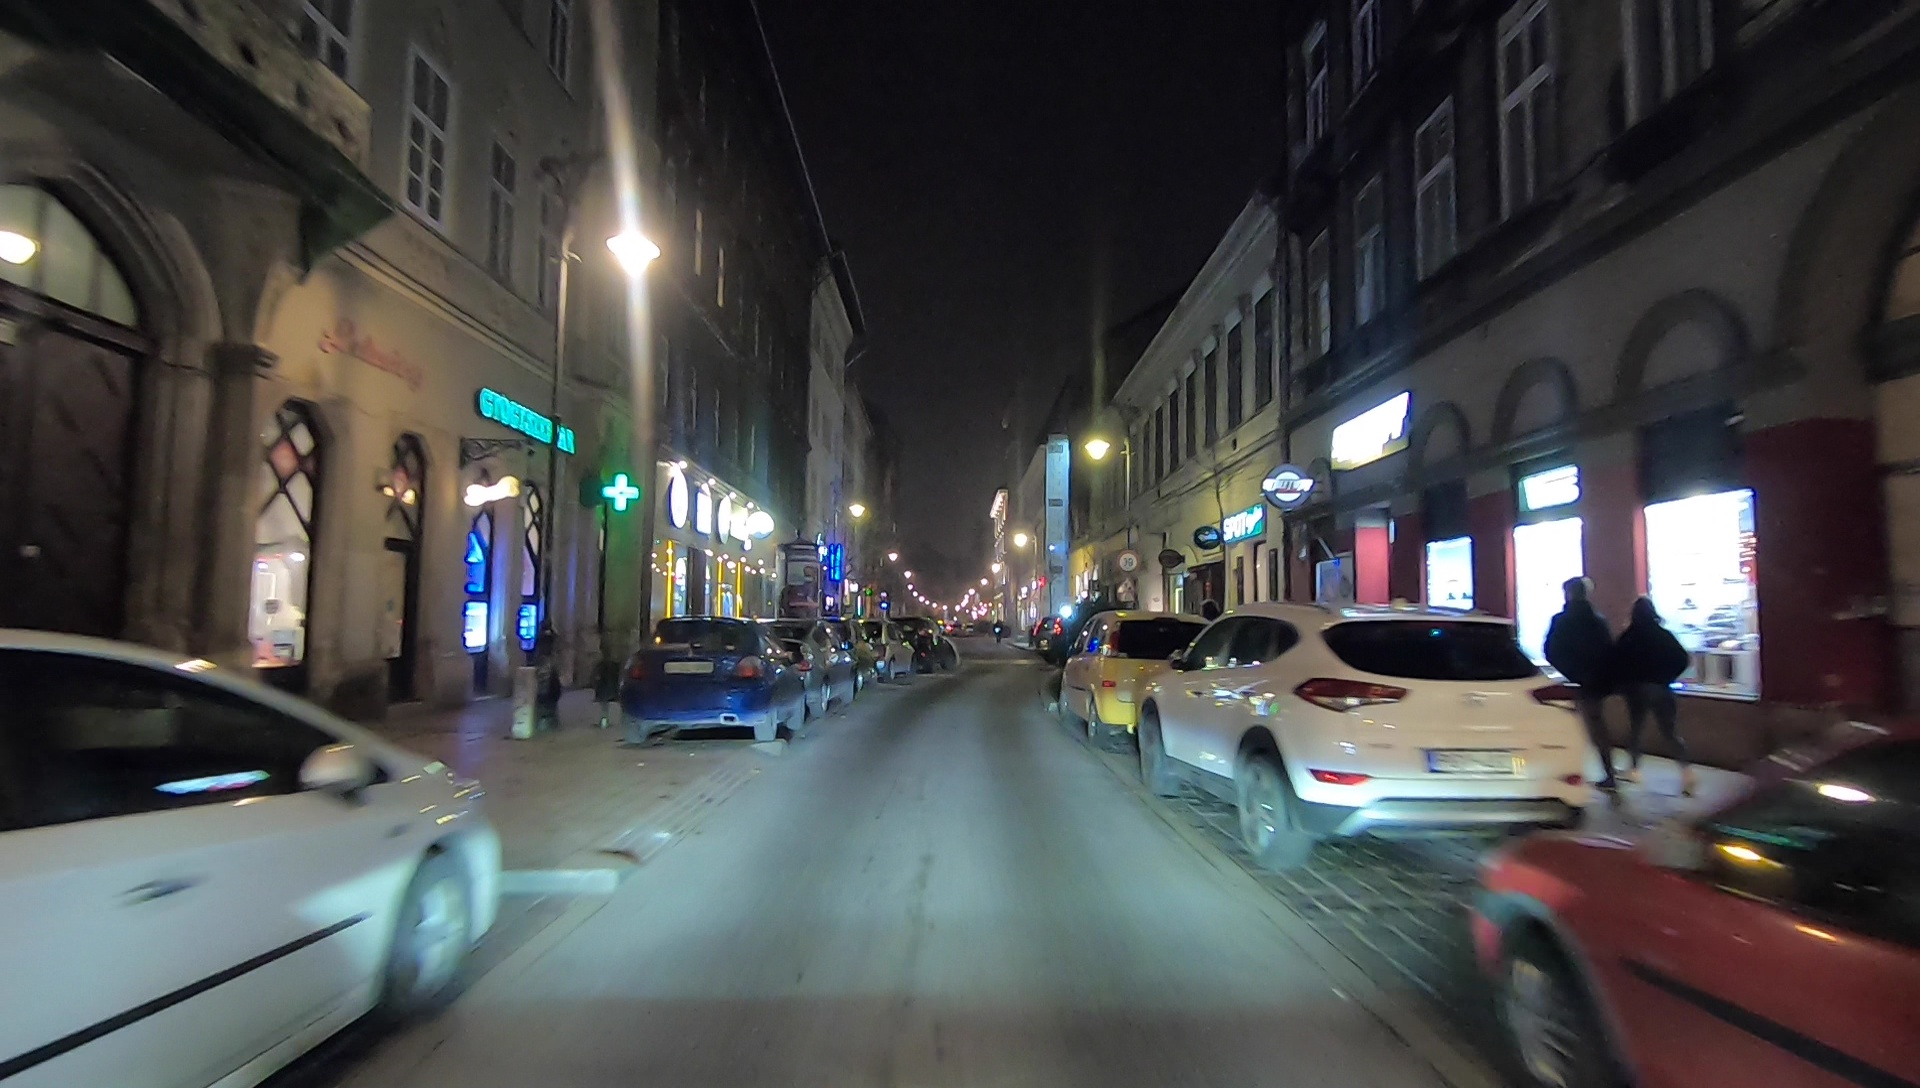person: (1549, 571, 1619, 791), (1619, 604, 1695, 802)
